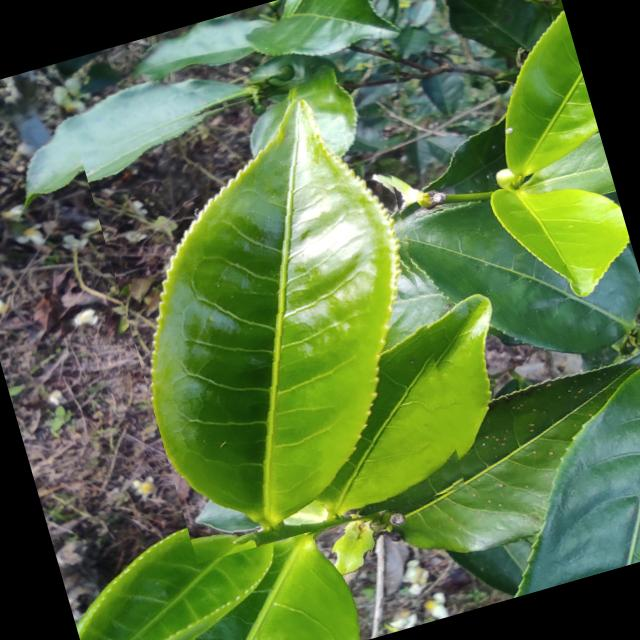Category B(2-4 days): (75, 59, 482, 564)
